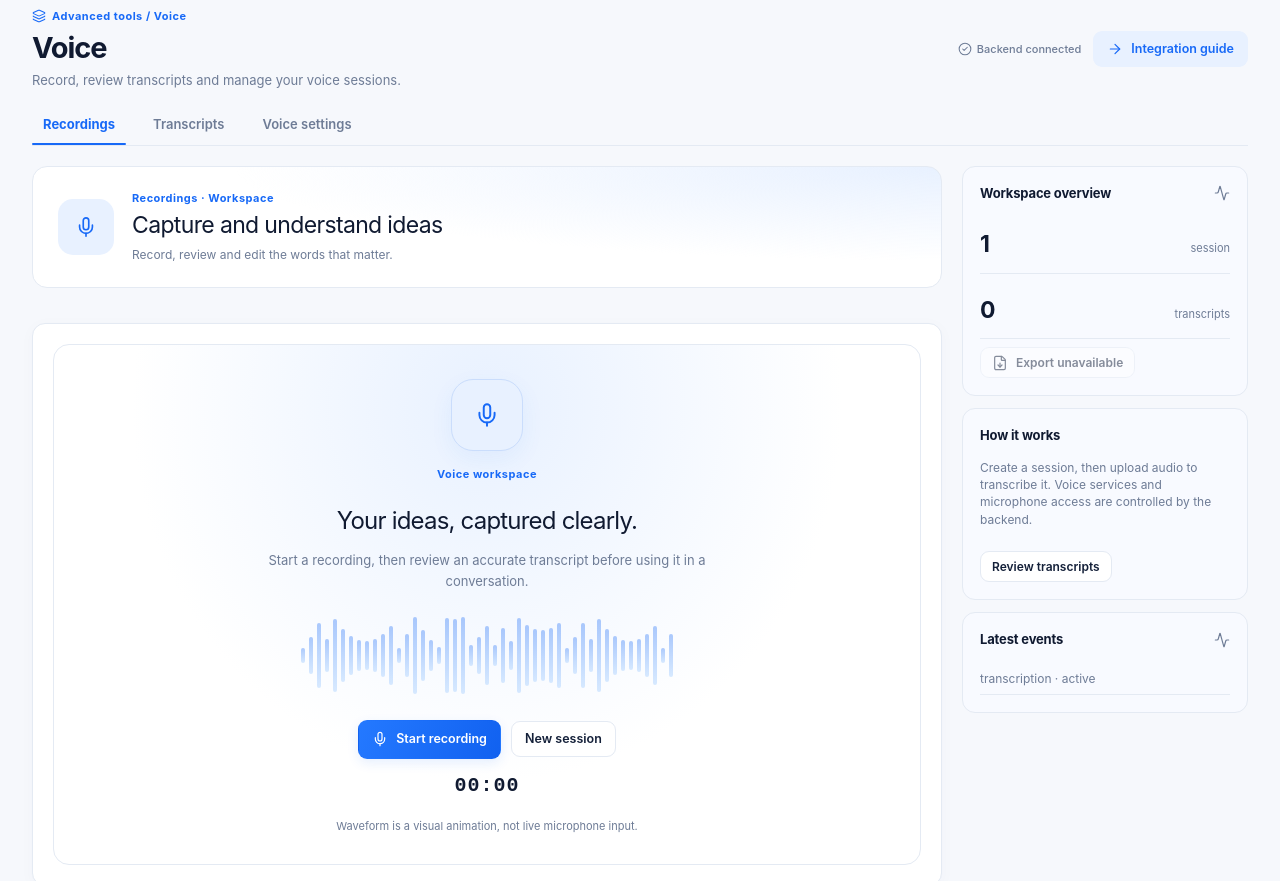
Test case: Voice workspace backend integration › discards a browser recording without uploading it
Click the button "Start recording" at (430,739), box x1=358 y1=720 x2=501 y2=759
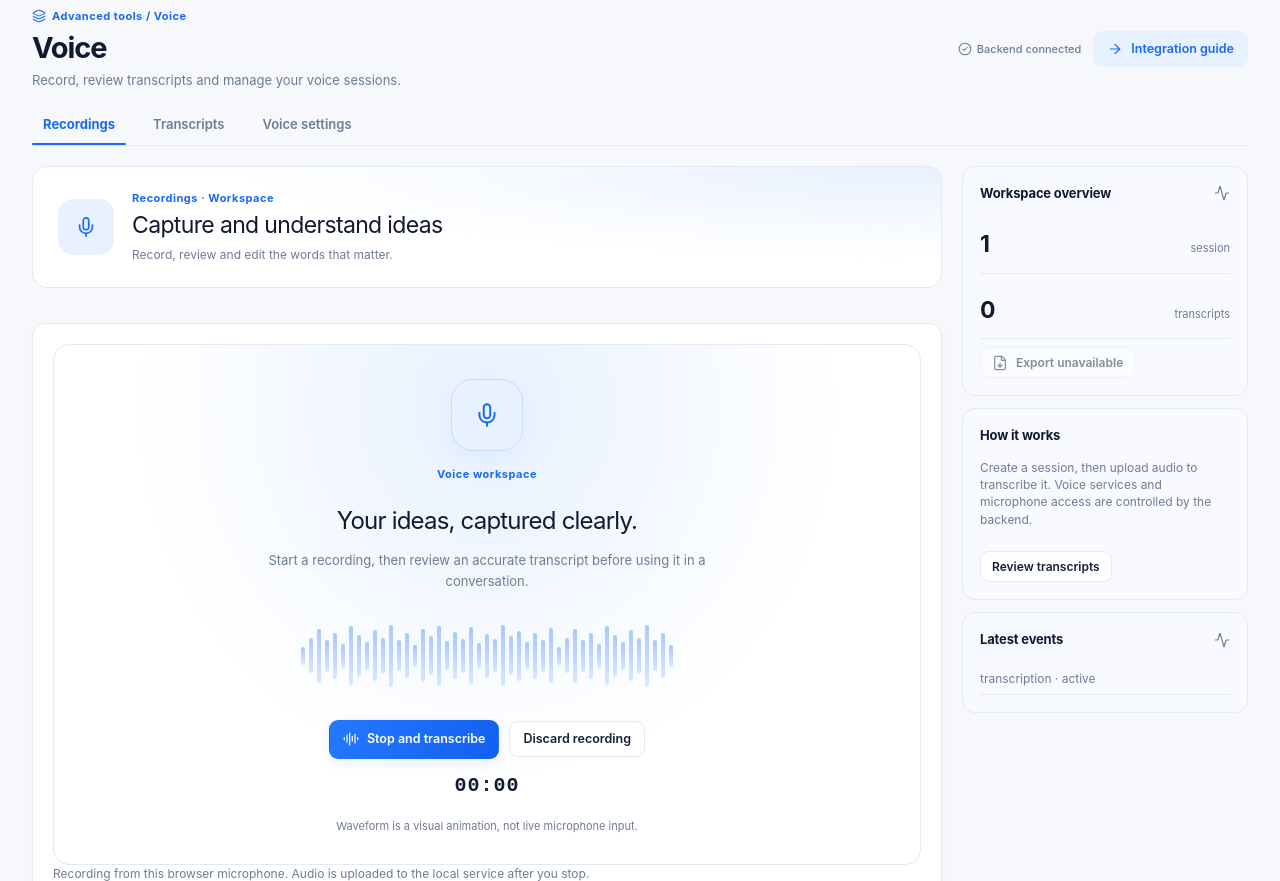
Check: the text "Recording from this browser microphone" is shown, box x1=53 y1=866 x2=589 y2=880
Click the button "Discard recording" at (577,739), box x1=510 y1=721 x2=645 y2=757
(page scrolled)
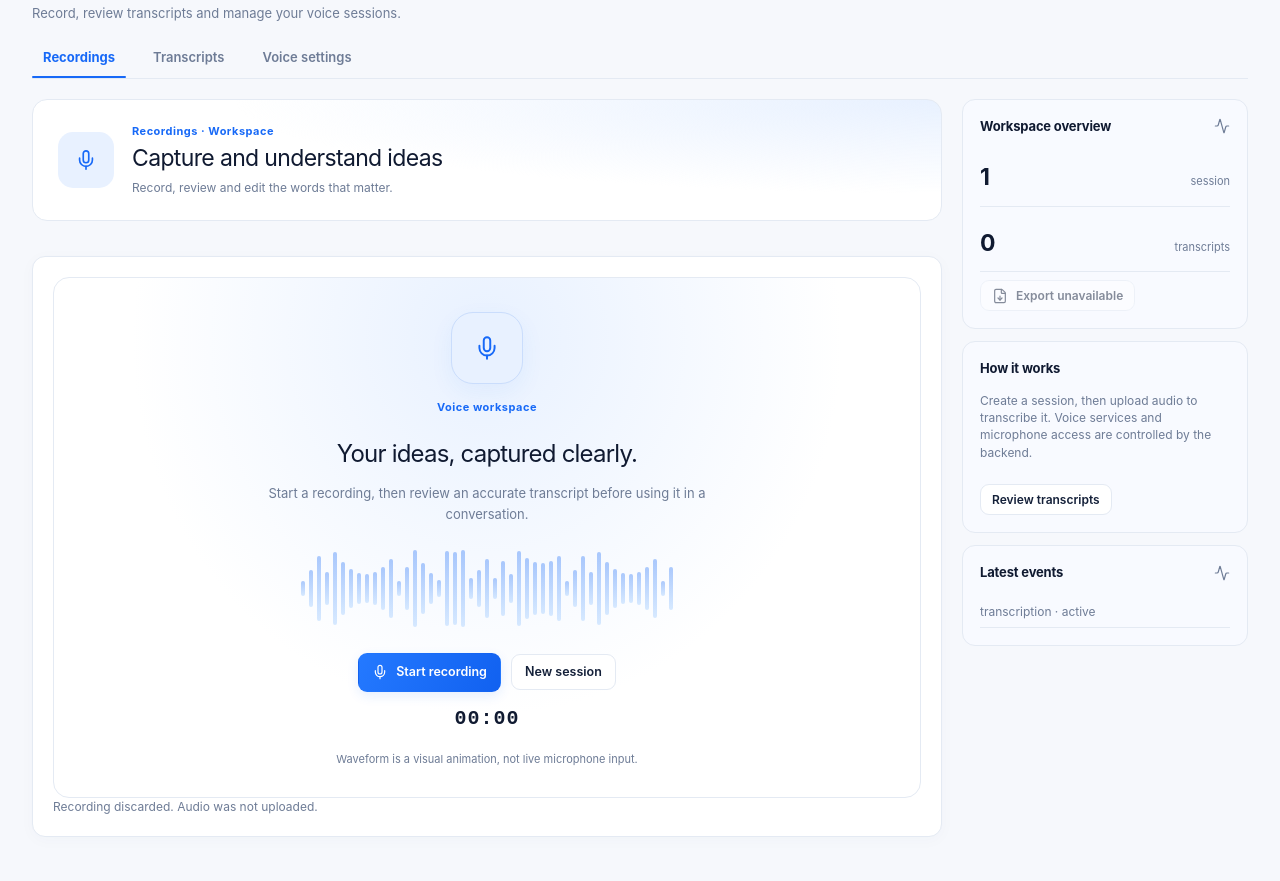
Check: the text "Recording discarded. Audio was not uploaded." is shown, box x1=53 y1=799 x2=318 y2=814
